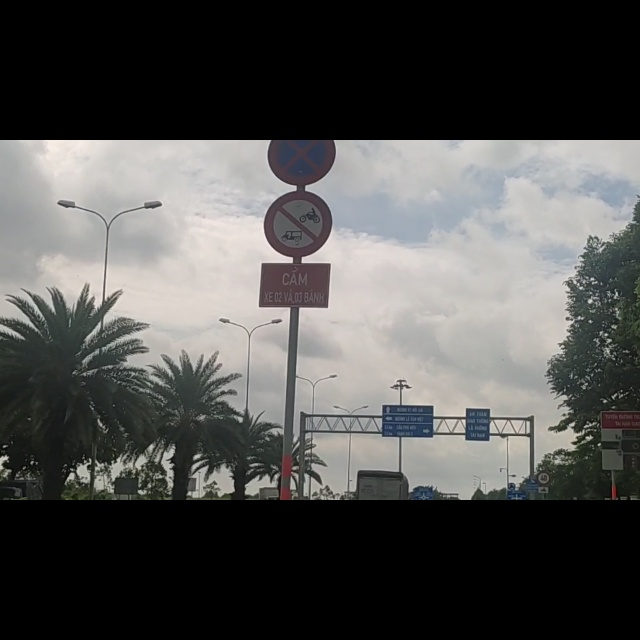bien_chi_dan: (260, 89, 333, 211)
